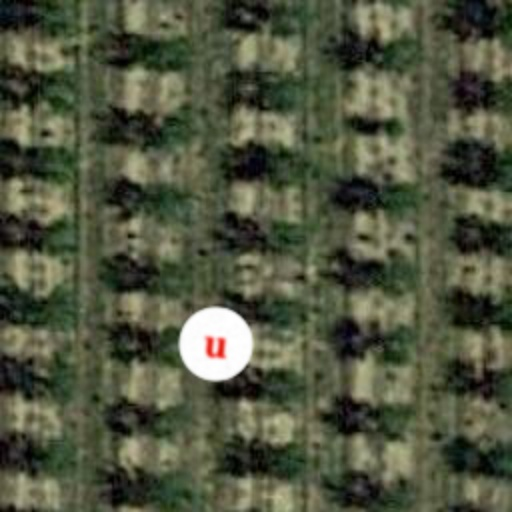circle: (174, 302, 258, 386)
